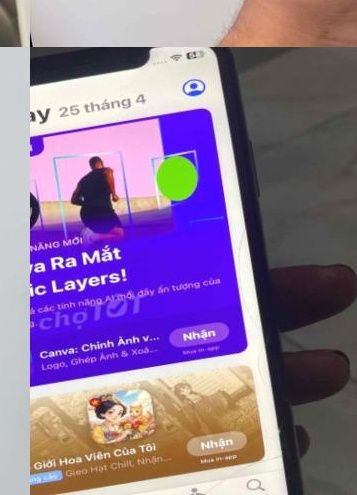physical_damage: (114, 412, 299, 495)
